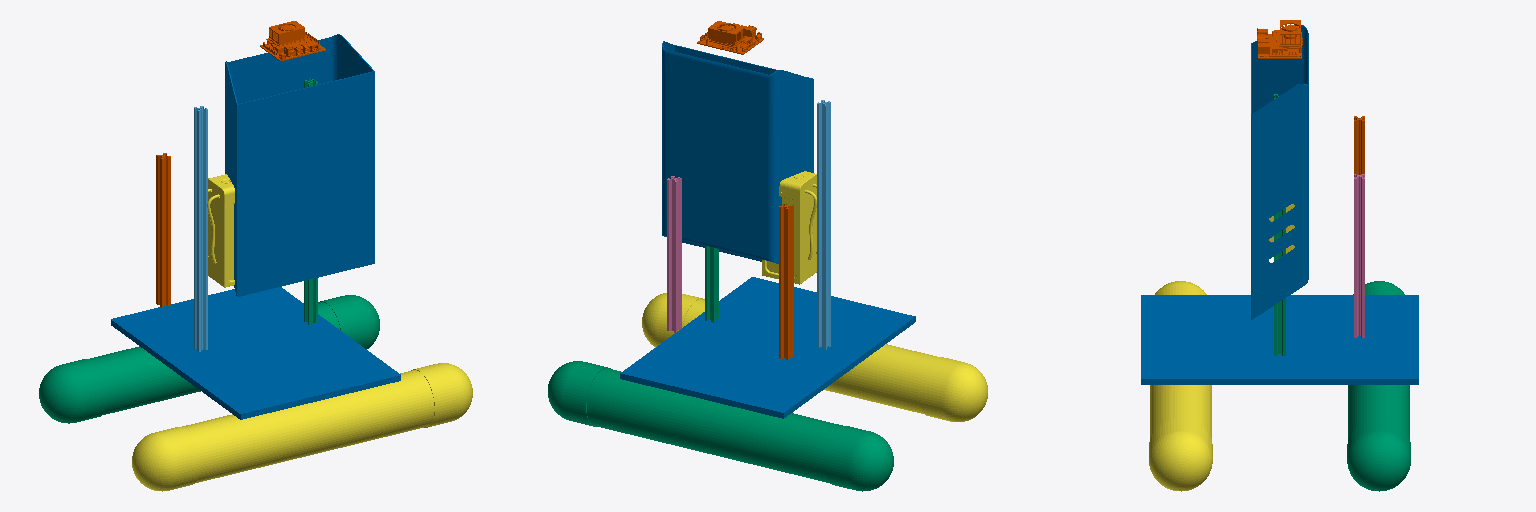
The robot description file, URDF, robot "asv_station_keeping_diag":
<?xml version='1.0' encoding='utf-8'?>
<robot name="asv_station_keeping_diag">
  <!-- Mesh-loading test only. Mounting poses are estimates, not Fusion occurrence transforms. 00_base has no visuals. -->
  <link name="base_footprint" />
  <link name="base_link">
    <inertial>
      <origin xyz="0 0 0" rpy="0 0 0" />
      <mass value="0.1" />
      <inertia ixx="0.0001" ixy="0" ixz="0" iyy="0.0001" iyz="0" izz="0.0001" />
    </inertial>
  </link>
  <link name="hull_left">
    <inertial>
      <origin xyz="0.0017543 -0.0000047 -0.0000010" rpy="0 0 0" />
      <mass value="8.7513272838" />
      <inertia ixx="0.0159438897" ixy="0" ixz="0" iyy="0.7485544942" iyz="0" izz="0.7485544942" />
    </inertial>
    <visual name="hull_left_visual">
      <origin xyz="-0.971730 0.357754 -1.641617" rpy="0 0 -1.57079632679" />
      <geometry>
        <mesh filename="package://asv_station_keeping/meshes/hull.stl" scale="0.001 0.001 0.001" />
      </geometry>
    </visual>
    <collision name="hull_left_collision">
      <geometry>
        <box size="0.724805 0.112973 0.112998" />
      </geometry>
    </collision>
  </link>
  <link name="hull_right">
    <inertial>
      <origin xyz="0.0017543 -0.0000047 -0.0000010" rpy="0 0 0" />
      <mass value="8.7513272838" />
      <inertia ixx="0.0159438897" ixy="0" ixz="0" iyy="0.7485544942" iyz="0" izz="0.7485544942" />
    </inertial>
    <visual name="hull_right_visual">
      <origin xyz="-0.971730 0.357754 -1.641617" rpy="0 0 -1.57079632679" />
      <geometry>
        <mesh filename="package://asv_station_keeping/meshes/hull.stl" scale="0.001 0.001 0.001" />
      </geometry>
    </visual>
    <collision name="hull_right_collision">
      <geometry>
        <box size="0.724805 0.112973 0.112998" />
      </geometry>
    </collision>
  </link>
  <link name="base_deck">
    <inertial>
      <origin xyz="0 0 0" rpy="0 0 0" />
      <mass value="16.1553" />
      <inertia ixx="0.3234344911" ixy="0" ixz="0" iyy="0.1651125511" iyz="0" izz="0.4881593150" />
    </inertial>
    <visual name="base_deck_visual">
      <origin xyz="-0.142254 -0.216347 -0.006000" rpy="1.57079632679 0 0" />
      <geometry>
        <mesh filename="package://asv_station_keeping/meshes/base_deck.stl" scale="0.001 0.001 0.001" />
      </geometry>
    </visual>
    <collision name="base_deck_collision">
      <geometry>
        <box size="0.350 0.490 0.012" />
      </geometry>
    </collision>
  </link>
  <link name="frame1_left">
    <inertial>
      <origin xyz="0 0 0" />
      <mass value="0.41469714" />
      <inertia ixx="0.00333785" ixy="0" ixz="0" iyy="0.00333785" iyz="0" izz="0.0000336422" />
    </inertial>
    <visual>
      <geometry>
        <mesh filename="package://asv_station_keeping/meshes/frame1.stl" scale="0.001 0.001 0.001" />
      </geometry>
    </visual>
    <collision>
      <geometry>
        <cylinder radius="0.010" length="0.310" />
      </geometry>
    </collision>
  </link>
  <link name="frame1_right">
    <inertial>
      <origin xyz="0 0 0" />
      <mass value="0.41469714" />
      <inertia ixx="0.00333785" ixy="0" ixz="0" iyy="0.00333785" iyz="0" izz="0.0000336422" />
    </inertial>
    <visual>
      <geometry>
        <mesh filename="package://asv_station_keeping/meshes/frame1.stl" scale="0.001 0.001 0.001" />
      </geometry>
    </visual>
    <collision>
      <geometry>
        <cylinder radius="0.010" length="0.310" />
      </geometry>
    </collision>
  </link>
  <link name="frame2_left">
    <inertial>
      <origin xyz="0 0 0" />
      <mass value="0.66886635" />
      <inertia ixx="0.01396185" ixy="0" ixz="0" iyy="0.01396185" iyz="0" izz="0.000054262" />
    </inertial>
    <visual>
      <geometry>
        <mesh filename="package://asv_station_keeping/meshes/frame2.stl" scale="0.001 0.001 0.001" />
      </geometry>
    </visual>
    <collision>
      <geometry>
        <cylinder radius="0.010" length="0.500" />
      </geometry>
    </collision>
  </link>
  <link name="frame2_right">
    <inertial>
      <origin xyz="0 0 0" />
      <mass value="0.66886635" />
      <inertia ixx="0.01396185" ixy="0" ixz="0" iyy="0.01396185" iyz="0" izz="0.000054262" />
    </inertial>
    <visual>
      <geometry>
        <mesh filename="package://asv_station_keeping/meshes/frame2.stl" scale="0.001 0.001 0.001" />
      </geometry>
    </visual>
    <collision>
      <geometry>
        <cylinder radius="0.010" length="0.500" />
      </geometry>
    </collision>
  </link>
  <link name="frame3_left">
    <inertial>
      <origin xyz="0 0 0" />
      <mass value="0.66886635" />
      <inertia ixx="0.01396185" ixy="0" ixz="0" iyy="0.01396185" iyz="0" izz="0.000054262" />
    </inertial>
    <visual>
      <geometry>
        <mesh filename="package://asv_station_keeping/meshes/frame3.stl" scale="0.001 0.001 0.001" />
      </geometry>
    </visual>
    <collision>
      <geometry>
        <cylinder radius="0.010" length="0.500" />
      </geometry>
    </collision>
  </link>
  <link name="frame3_right">
    <inertial>
      <origin xyz="0 0 0" />
      <mass value="0.66886635" />
      <inertia ixx="0.01396185" ixy="0" ixz="0" iyy="0.01396185" iyz="0" izz="0.000054262" />
    </inertial>
    <visual>
      <geometry>
        <mesh filename="package://asv_station_keeping/meshes/frame3.stl" scale="0.001 0.001 0.001" />
      </geometry>
    </visual>
    <collision>
      <geometry>
        <cylinder radius="0.010" length="0.500" />
      </geometry>
    </collision>
  </link>
  <link name="battery">
    <inertial>
      <origin xyz="0.011821 0 0.000846" />
      <mass value="8.29420474" />
      <inertia ixx="0.0317350" ixy="0" ixz="0.0000687" iyy="0.0339037" iyz="0" izz="0.00778636" />
    </inertial>
    <visual>
      <origin xyz="0.012244 -0.035000 -0.000150" />
      <geometry>
        <mesh filename="package://asv_station_keeping/meshes/battery.stl" scale="0.001 0.001 0.001" />
      </geometry>
    </visual>
    <collision>
      <geometry>
        <box size="0.109 0.070 0.202" />
      </geometry>
    </collision>
  </link>
  <link name="electronics">
    <inertial>
      <origin xyz="0 -0.005565 -0.000224" />
      <mass value="4.50915118" />
      <inertia ixx="0.0697094" ixy="0" ixz="0" iyy="0.1035140" iyz="-0.00452282" izz="0.0519051" />
    </inertial>
    <visual>
      <origin xyz="0 -0.051000 -0.023578" />
      <geometry>
        <mesh filename="package://asv_station_keeping/meshes/electronics.stl" scale="0.001 0.001 0.001" />
      </geometry>
    </visual>
    <collision>
      <geometry>
        <box size="0.300 0.102 0.447" />
      </geometry>
    </collision>
  </link>
  <link name="jetson_nano">
    <inertial>
      <origin xyz="-0.001623 0.002547 -0.004382" />
      <mass value="0.55767391" />
      <inertia ixx="0.00033845" ixy="0.000000893" ixz="0.00000257" iyy="0.00033690" iyz="-0.00004065" izz="0.00056875" />
    </inertial>
    <visual>
      <origin xyz="-0.004000 -0.007385 -0.025097" />
      <geometry>
        <mesh filename="package://asv_station_keeping/meshes/Jetson-Nano.stl" scale="0.001 0.001 0.001" />
      </geometry>
    </visual>
    <collision>
      <geometry>
        <box size="0.100 0.080 0.040" />
      </geometry>
    </collision>
  </link>
  <joint name="base_footprint_to_base_link" type="fixed">
    <parent link="base_footprint" />
    <child link="base_link" />
    <origin xyz="0 0 0" rpy="0 0 0" />
  </joint>
  <joint name="base_to_hull_left" type="fixed">
    <parent link="base_link" />
    <child link="hull_left" />
    <origin xyz="0 0.175 0.055" rpy="0 0 0" />
  </joint>
  <joint name="base_to_hull_right" type="fixed">
    <parent link="base_link" />
    <child link="hull_right" />
    <origin xyz="0 -0.175 0.055" rpy="0 0 0" />
  </joint>
  <joint name="base_to_base_deck" type="fixed">
    <parent link="base_link" />
    <child link="base_deck" />
    <origin xyz="0 0 0.145" rpy="0 0 0" />
  </joint>
  <joint name="deck_to_frame1_left" type="fixed">
    <parent link="base_deck" />
    <child link="frame1_left" />
    <origin xyz="-0.12 0.14 0.22" />
  </joint>
  <joint name="deck_to_frame1_right" type="fixed">
    <parent link="base_deck" />
    <child link="frame1_right" />
    <origin xyz="0.12 0.14 0.22" />
  </joint>
  <joint name="deck_to_frame2_left" type="fixed">
    <parent link="base_deck" />
    <child link="frame2_left" />
    <origin xyz="-0.12 -0.14 0.28" />
  </joint>
  <joint name="deck_to_frame2_right" type="fixed">
    <parent link="base_deck" />
    <child link="frame2_right" />
    <origin xyz="0.12 -0.14 0.28" />
  </joint>
  <joint name="deck_to_frame3_left" type="fixed">
    <parent link="base_deck" />
    <child link="frame3_left" />
    <origin xyz="-0.12 0 0.28" />
  </joint>
  <joint name="deck_to_frame3_right" type="fixed">
    <parent link="base_deck" />
    <child link="frame3_right" />
    <origin xyz="0.12 0 0.28" />
  </joint>
  <joint name="deck_to_battery" type="fixed">
    <parent link="base_deck" />
    <child link="battery" />
    <origin xyz="-0.06 0 0.265" />
  </joint>
  <joint name="deck_to_electronics" type="fixed">
    <parent link="base_deck" />
    <child link="electronics" />
    <origin xyz="0.08 0 0.370" />
  </joint>
  <joint name="electronics_to_jetson" type="fixed">
    <parent link="electronics" />
    <child link="jetson_nano" />
    <origin xyz="0 0 0.255" />
  </joint>
</robot>

--- Render facts (derived) ---
3 views of the same robot in one strip: view 1: azimuth 30°, elevation 25°; view 2: azimuth 150°, elevation 25°; view 3: azimuth 270°, elevation 25° (orthographic).
Robot: asv_station_keeping_diag — 14 links, 13 joints (13 fixed); root link base_footprint; default pose: every joint at zero.
Links seen in each view (by area): view 1: electronics, base_deck, hull_right, hull_left, frame3_left, battery, frame1_left, jetson_nano, frame3_right; view 2: electronics, base_deck, hull_left, hull_right, frame3_left, battery, frame1_left, frame1_right, jetson_nano, frame3_right; view 3: base_deck, electronics, hull_right, hull_left, frame1_right, jetson_nano, frame3_right, frame1_left.
Boxes of the visible links, x1,y1,x2,y2 form: electronics: (225, 34, 374, 296); base_deck: (111, 287, 400, 419); hull_right: (132, 363, 472, 491); hull_left: (39, 295, 379, 423); frame3_left: (194, 106, 207, 351); battery: (207, 174, 234, 287); frame1_left: (156, 153, 170, 307); jetson_nano: (260, 21, 325, 60); frame3_right: (304, 79, 317, 324); electronics: (662, 41, 813, 263); base_deck: (620, 277, 915, 418); hull_left: (548, 361, 893, 491); hull_right: (642, 293, 987, 421); frame3_left: (817, 100, 830, 349); battery: (762, 171, 816, 284); frame1_left: (779, 203, 793, 359); frame1_right: (667, 176, 681, 332); jetson_nano: (697, 21, 763, 54); frame3_right: (705, 246, 718, 322); base_deck: (1141, 295, 1418, 384); electronics: (1251, 25, 1308, 319); hull_right: (1149, 281, 1212, 491); hull_left: (1347, 281, 1410, 491); frame1_right: (1354, 174, 1364, 337); jetson_nano: (1257, 20, 1302, 58); frame3_right: (1274, 94, 1285, 355); frame1_left: (1354, 116, 1364, 174).
Bounding box of the posed robot: 0.7248 × 0.49 × 0.7916 m (x, y, z).
10 mesh visuals loaded from 8 distinct referenced files (7 binary STL); not drawn: 2 (reference not matched to a file when rendering).
